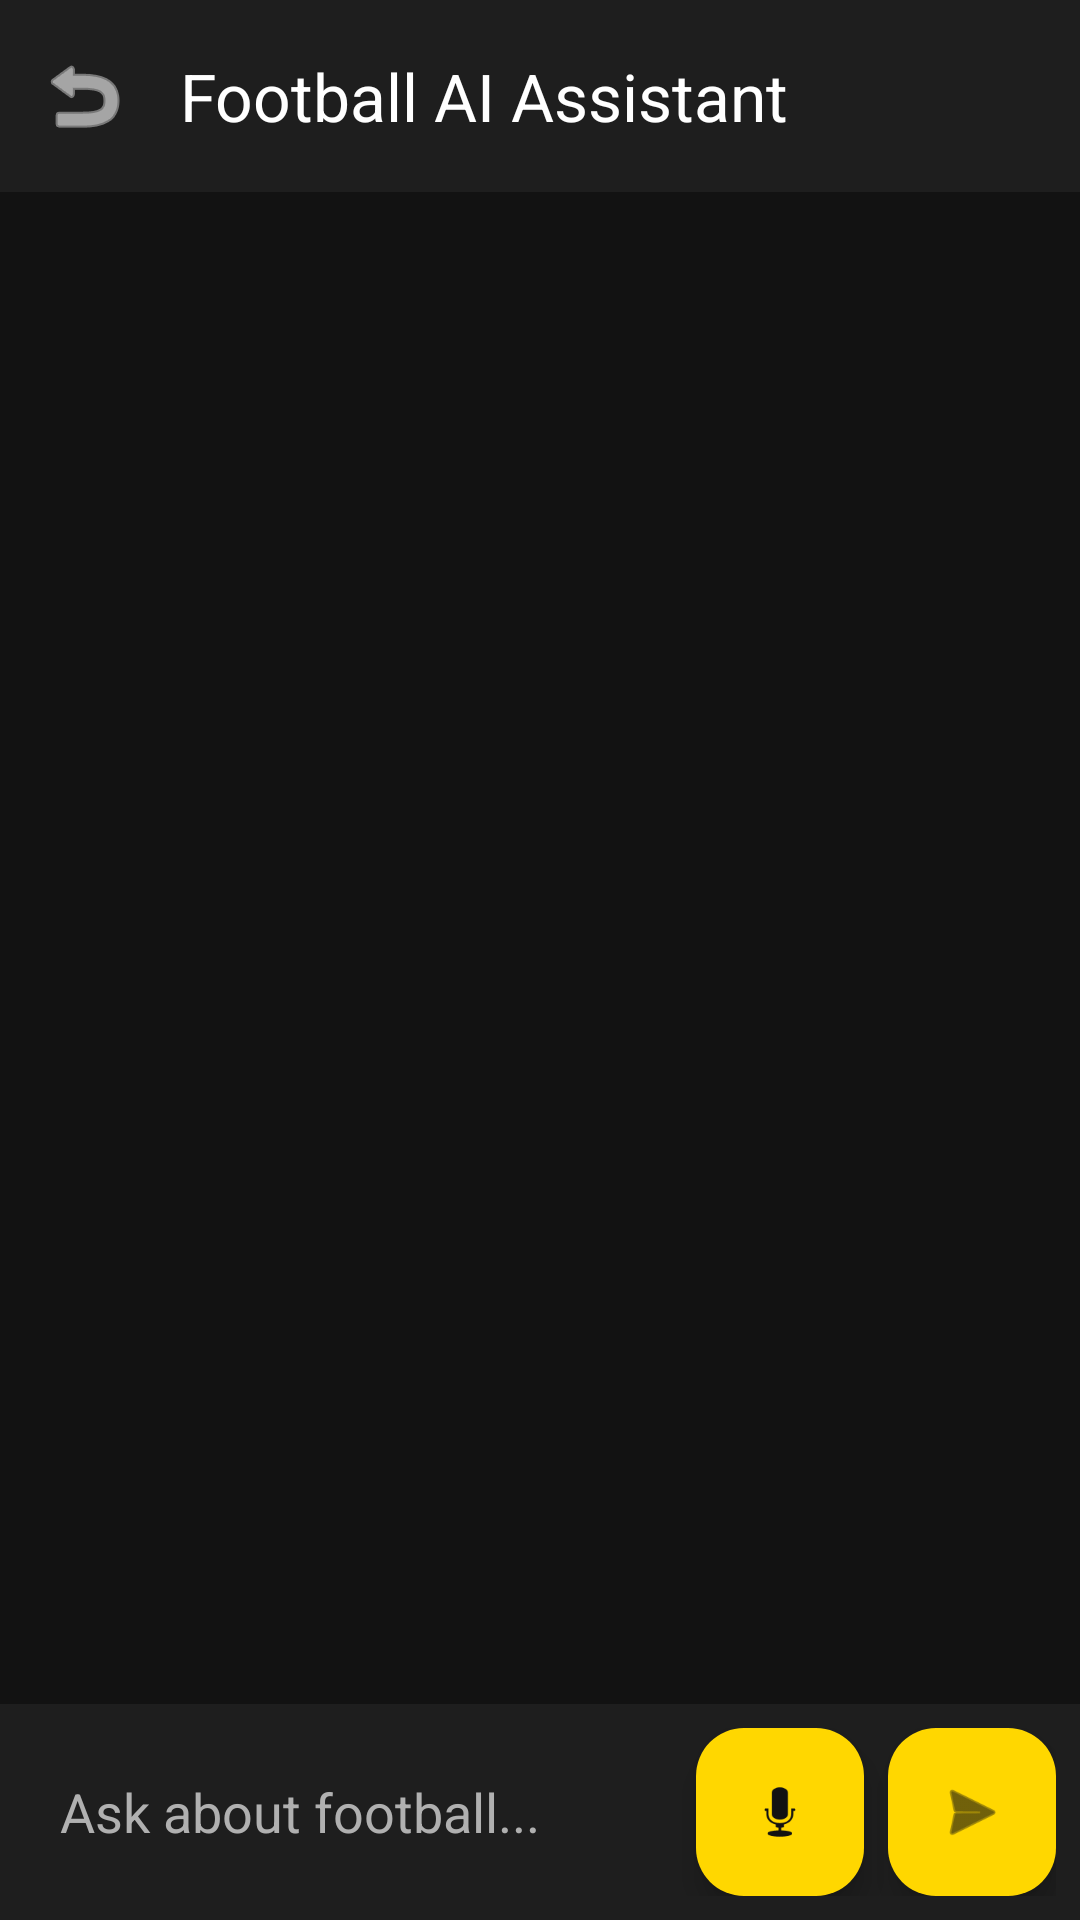

Named icons in this screenshot (1080w x 1920h) and their centers, (x=x, y=y):
send: (x=972, y=1812)
speak now: (x=780, y=1812)
